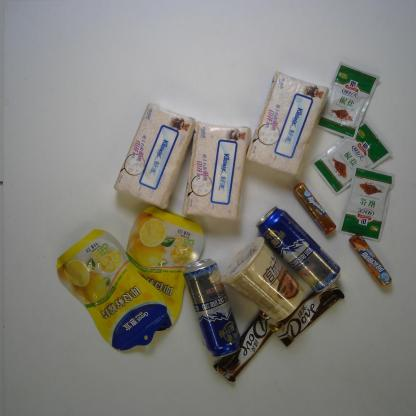Alcohol: (256, 202, 346, 298), (186, 257, 252, 362)
Candy: (292, 183, 343, 240), (347, 233, 394, 292)
Chocolate: (266, 278, 364, 344), (212, 307, 294, 378)
Dried Fruit: (56, 232, 171, 358), (112, 199, 202, 334)
Instant Noodles: (221, 232, 310, 321)
Seasoner: (313, 123, 398, 191), (317, 58, 384, 136), (338, 166, 399, 244)
Tissue: (116, 99, 201, 212), (244, 70, 330, 179), (181, 113, 259, 224)
